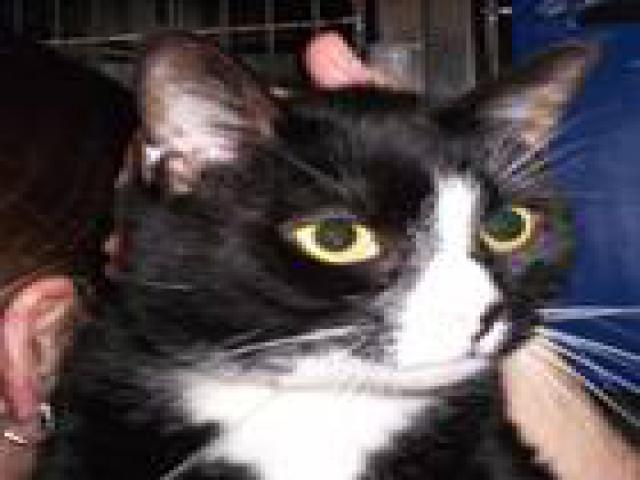cat: (65, 35, 604, 451)
